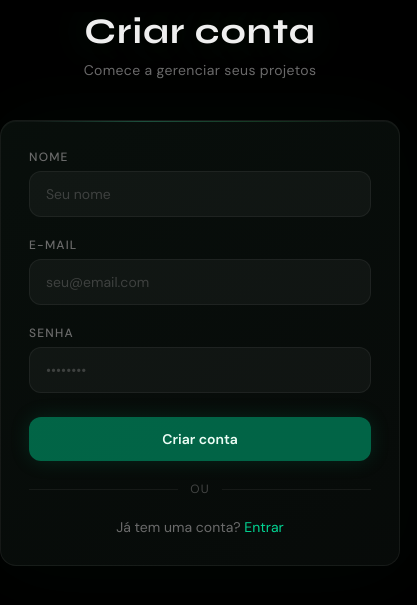
Test: RegisterPage › validates name minimum length
Type "A" into the field labelled "Nome" at (200, 194), box left=29, top=171, right=371, bottom=217
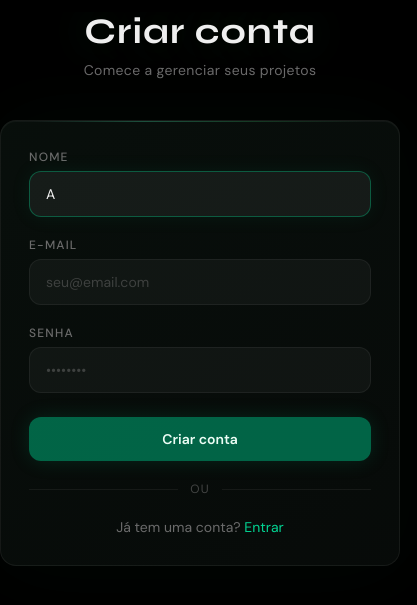
Type "junior@email.com" into the field labelled "E-mail" at (200, 282), box left=29, top=259, right=371, bottom=305
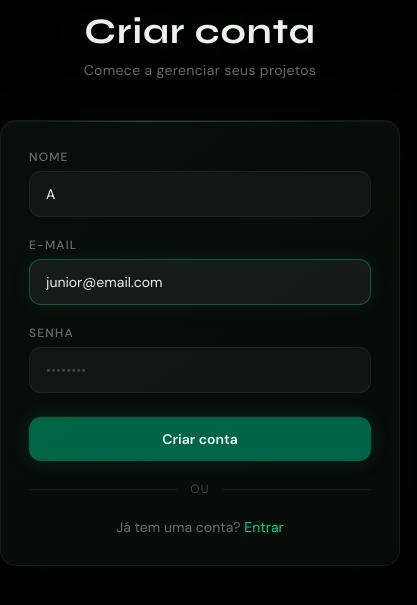
Type "Test1234" into the password field labelled "Senha" at (200, 370), box left=29, top=347, right=371, bottom=393
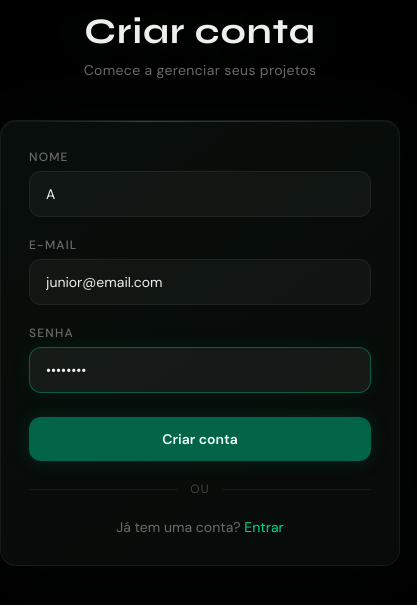
Click the button "Criar conta" at (200, 439), box left=29, top=417, right=371, bottom=461
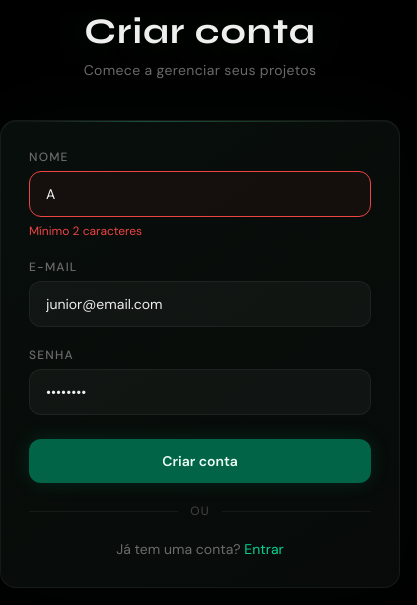
expect the text "Mínimo 2 caracteres" is shown: met, box left=29, top=223, right=142, bottom=239
